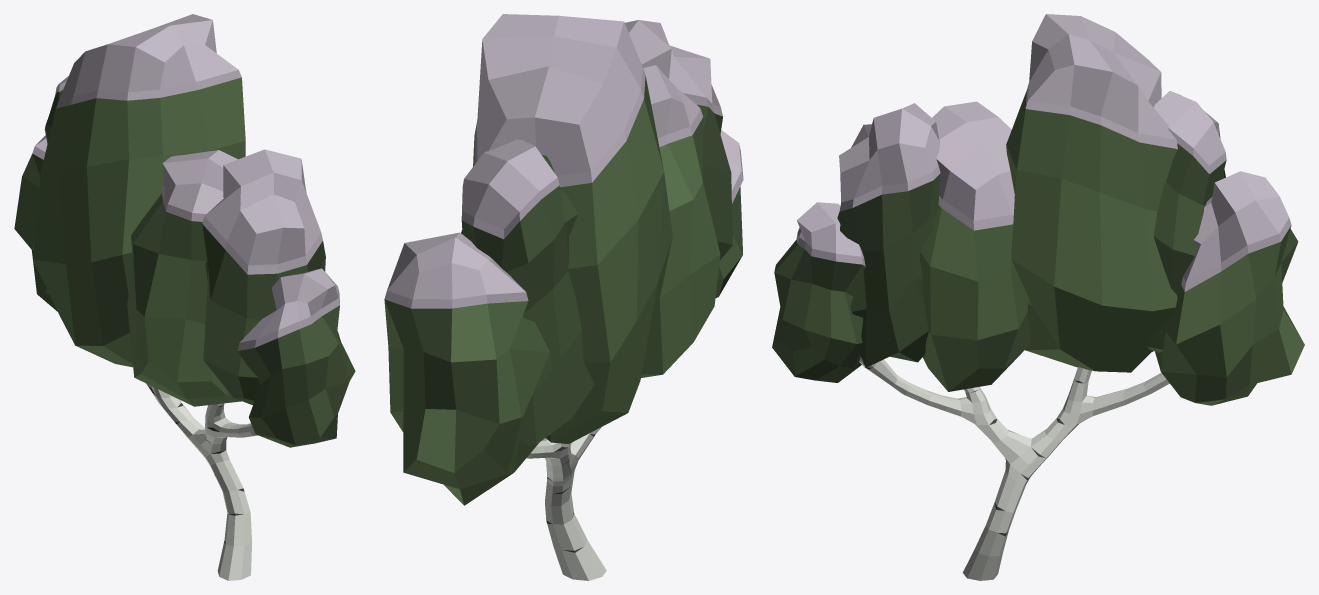
File: birchtree_snow_4.glb
3 renders of one model, left to right at view 1: azimuth 30°, elevation 25°; view 2: azimuth 150°, elevation 25°; view 3: azimuth 270°, elevation 25°, orthographic. The views are drawn at different scales.
Parts seen in each view (by area): view 1: BirchTree_Snow_4; view 2: BirchTree_Snow_4; view 3: BirchTree_Snow_4.
Part boxes in pixels (bbox=[...]): BirchTree_Snow_4: bbox=[14, 14, 355, 580]; BirchTree_Snow_4: bbox=[384, 14, 743, 580]; BirchTree_Snow_4: bbox=[772, 14, 1304, 580].
Size of the model in its own units: 1.15 by 3.6 by 3.29.
